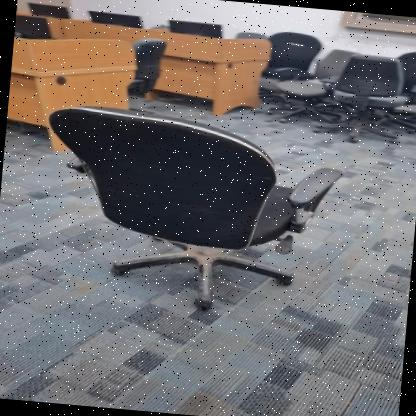chair: (27, 98, 348, 324), (325, 50, 414, 132), (250, 24, 326, 107)
